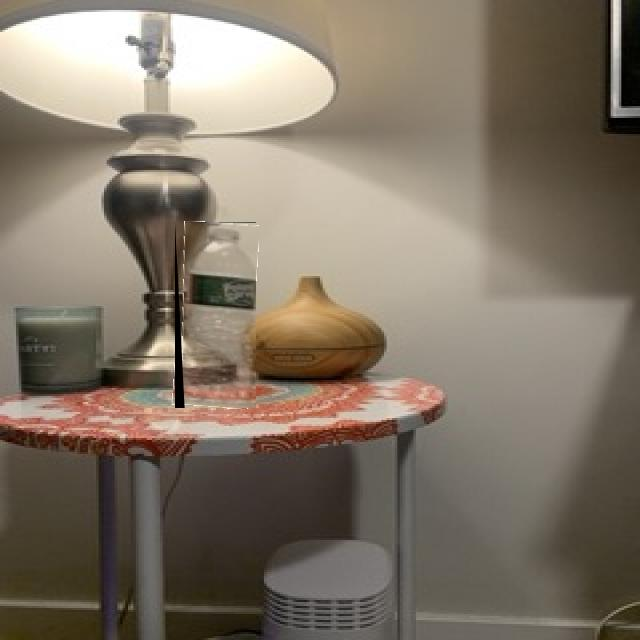water_bottle: (175, 222, 256, 408)
